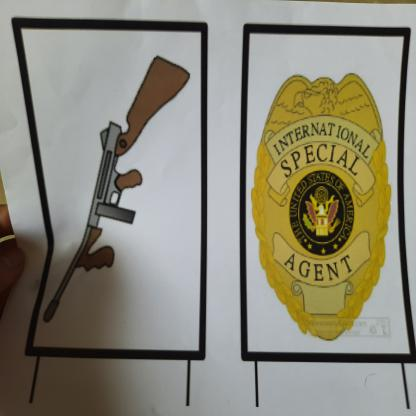Bootlegger: (31, 41, 198, 338)
G-man: (248, 71, 396, 348)
